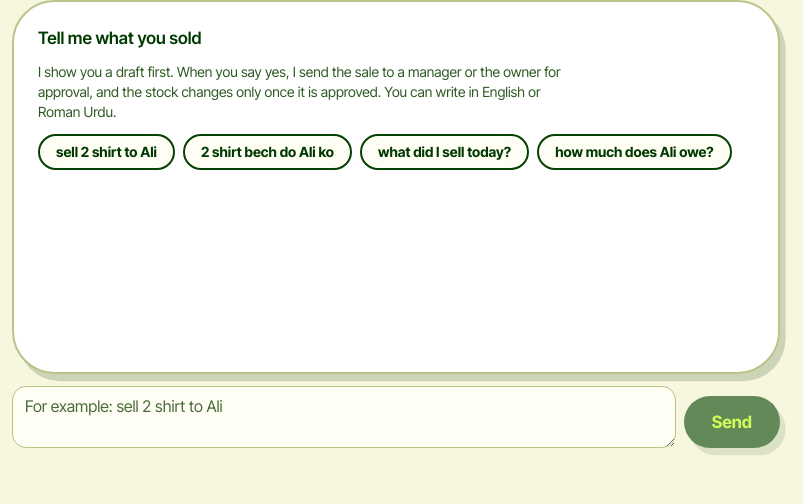
Test: Sales chat (PRD F-006) › a manager approves a proposal right in the conversation
Type "yes" into the text box named "Your message".
click(344, 417); type("yes")  # box [12, 386, 676, 448]
Then press Enter
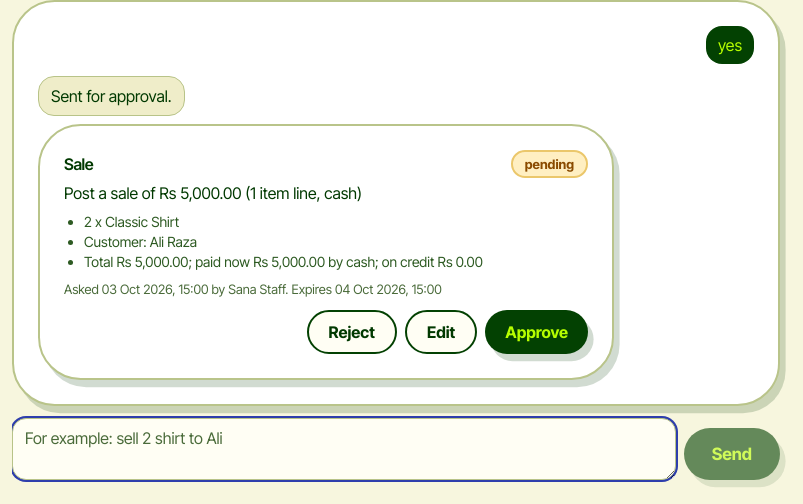
expect the list item "2 x Classic Shirt" is shown: met, box [84, 213, 179, 230]
Click the button "Approve".
click(537, 332)  # box [485, 310, 588, 354]
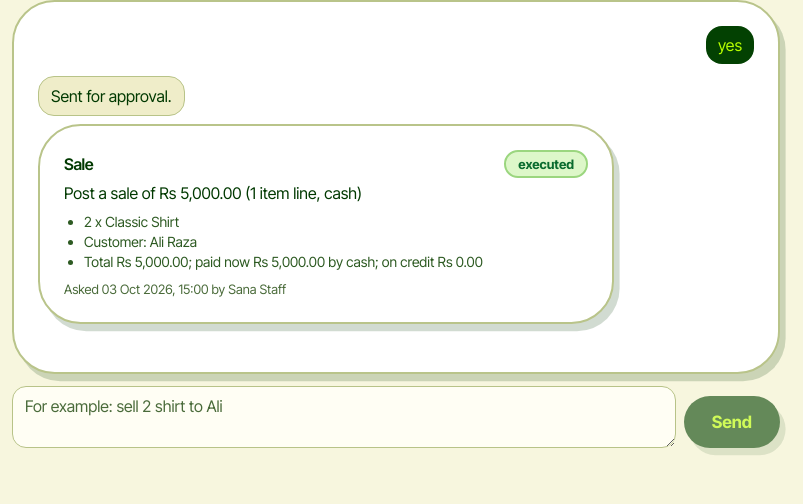
expect the text "executed" is shown: met, box [504, 150, 588, 178]
expect the button "Approve" is gone: met
